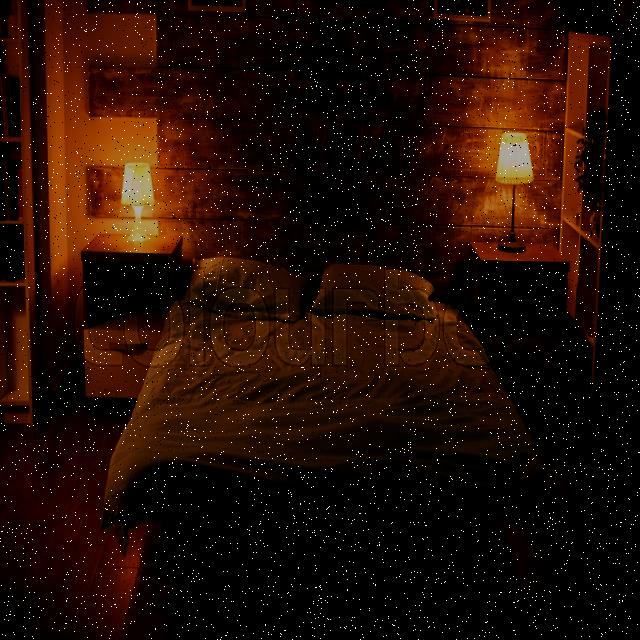bed: (96, 254, 551, 573)
